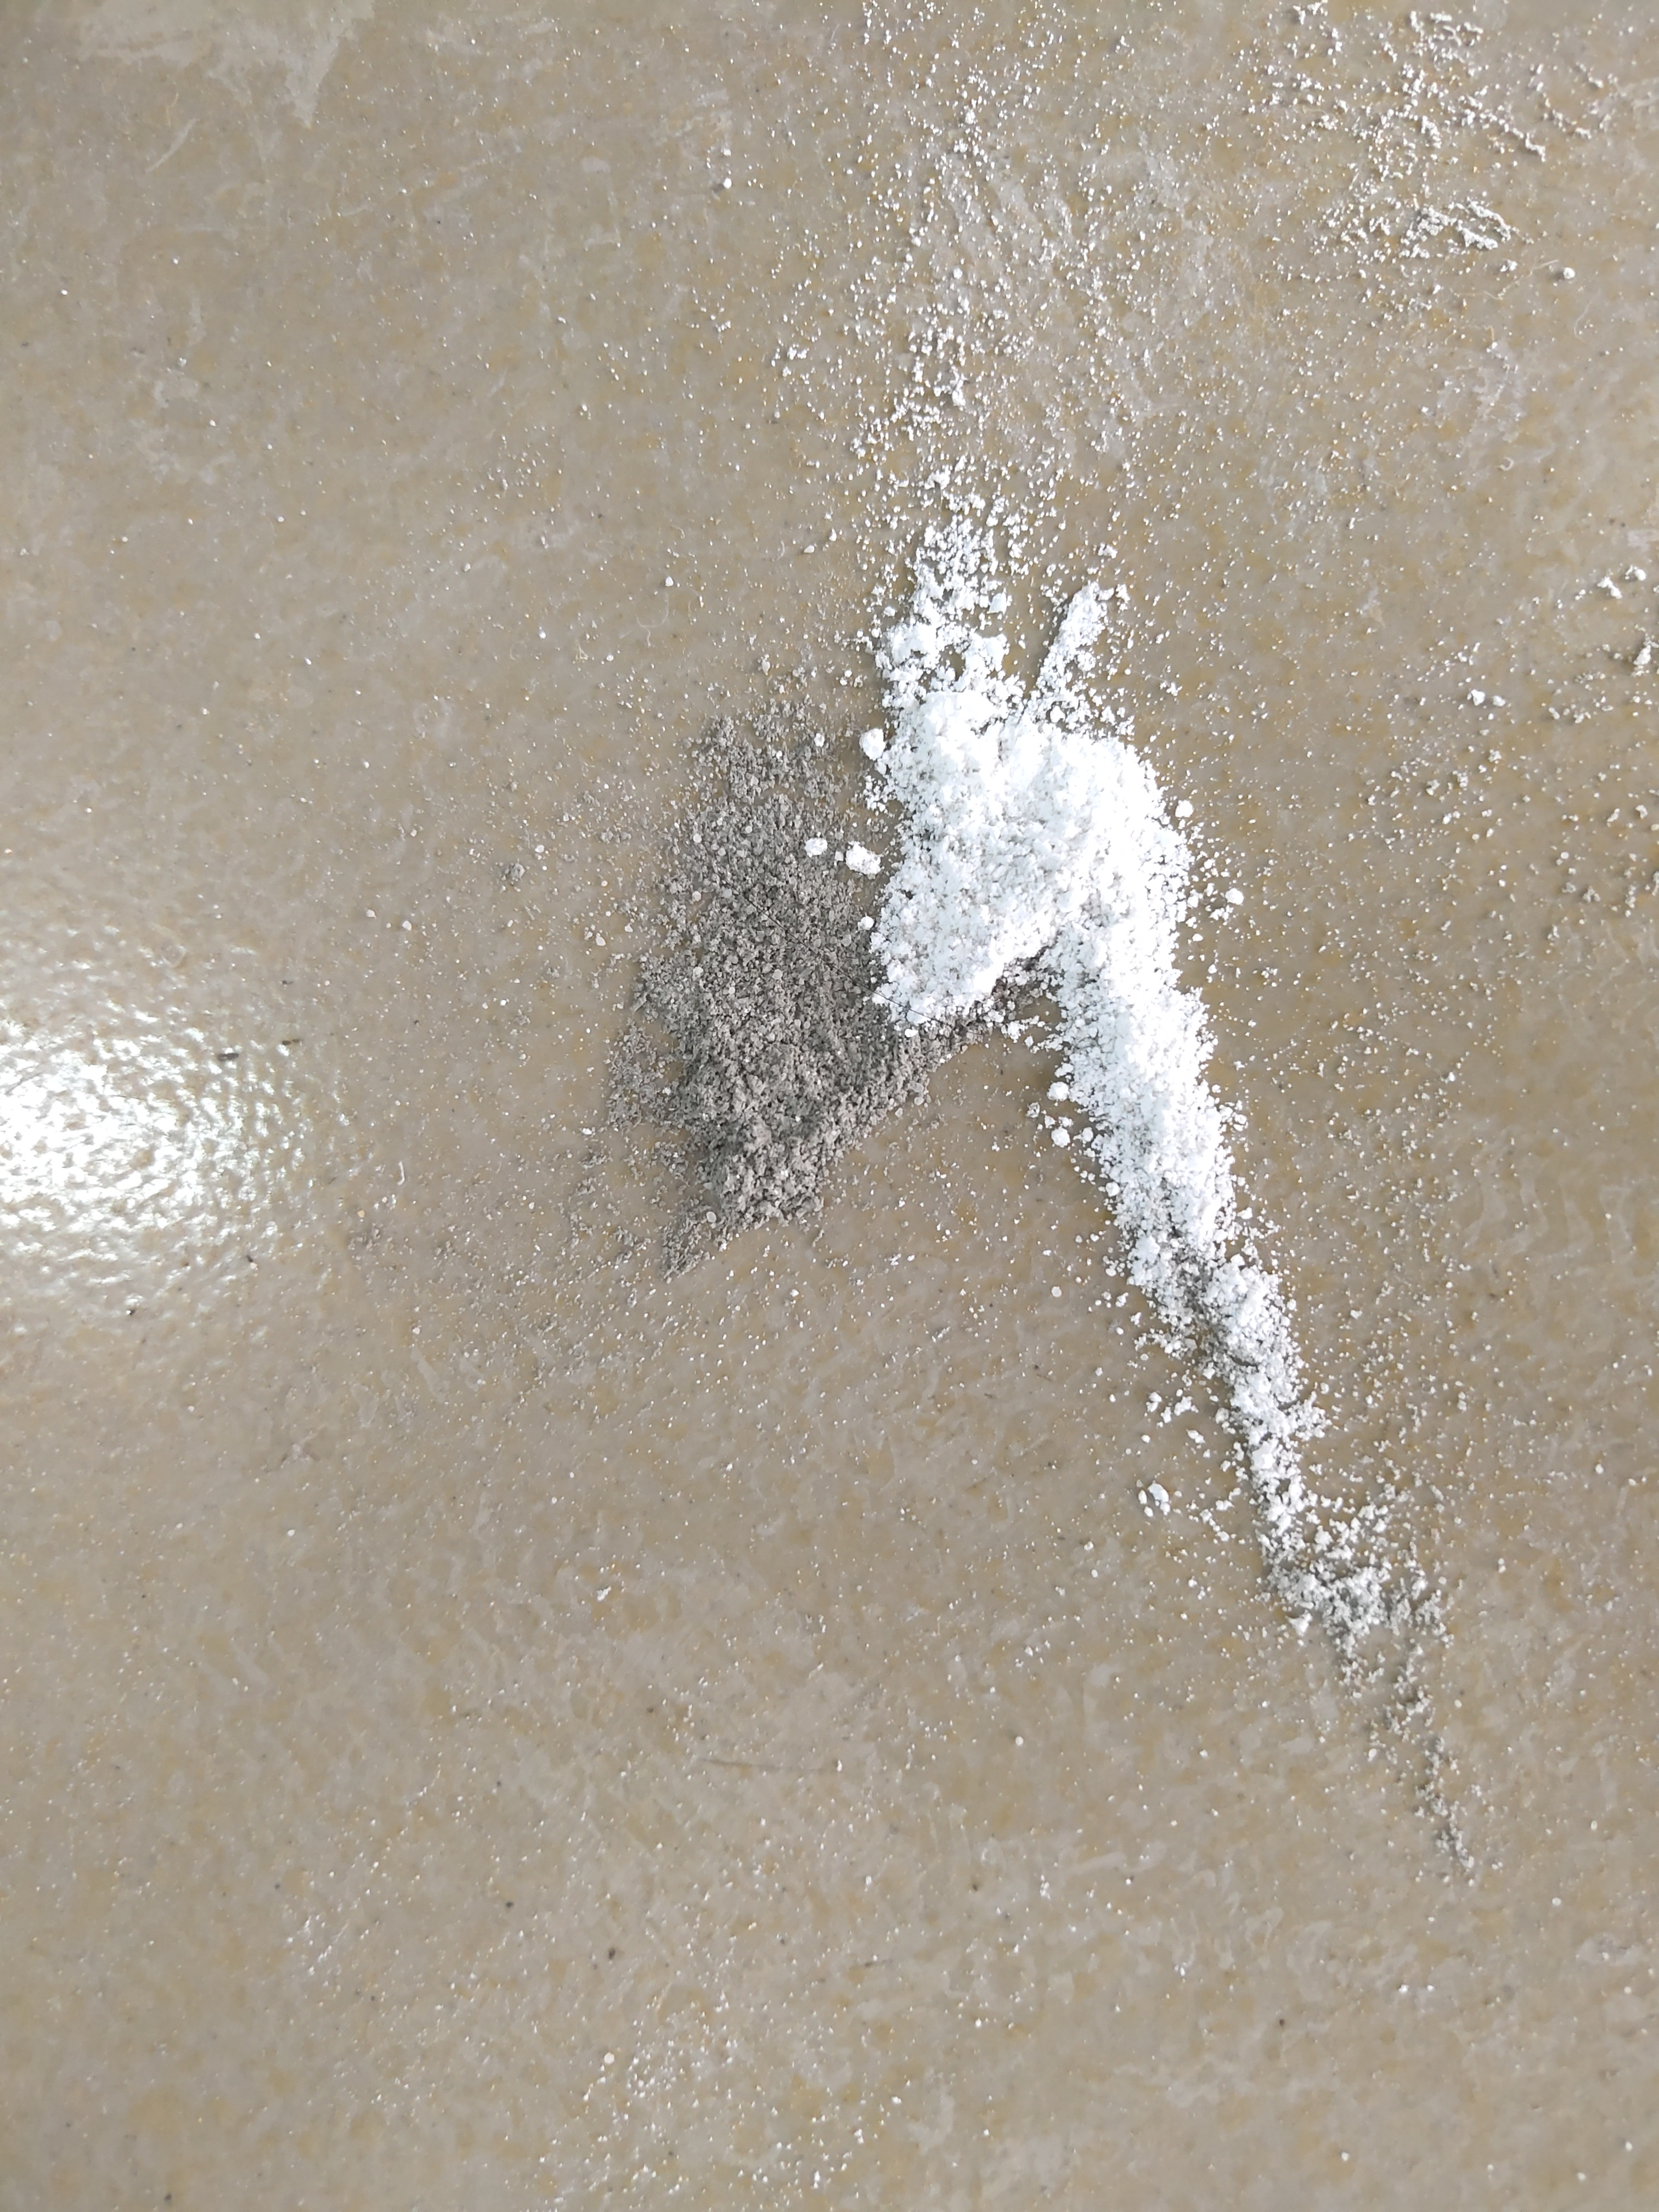ash pile: (612, 458, 1471, 1878)
reflection: (2, 1010, 305, 1275)
